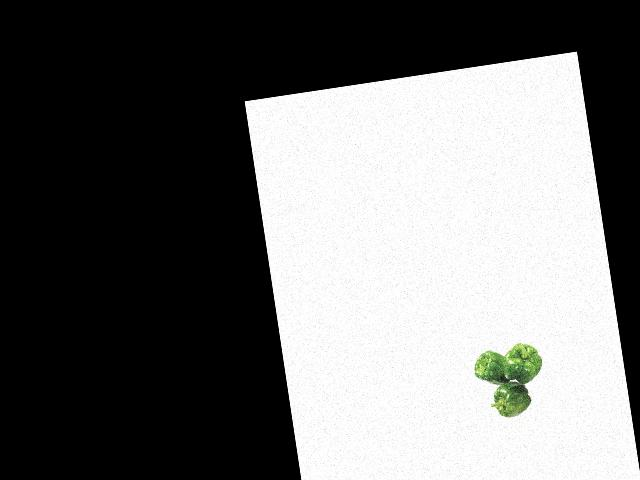bell_pepper: (498, 336, 548, 386)
